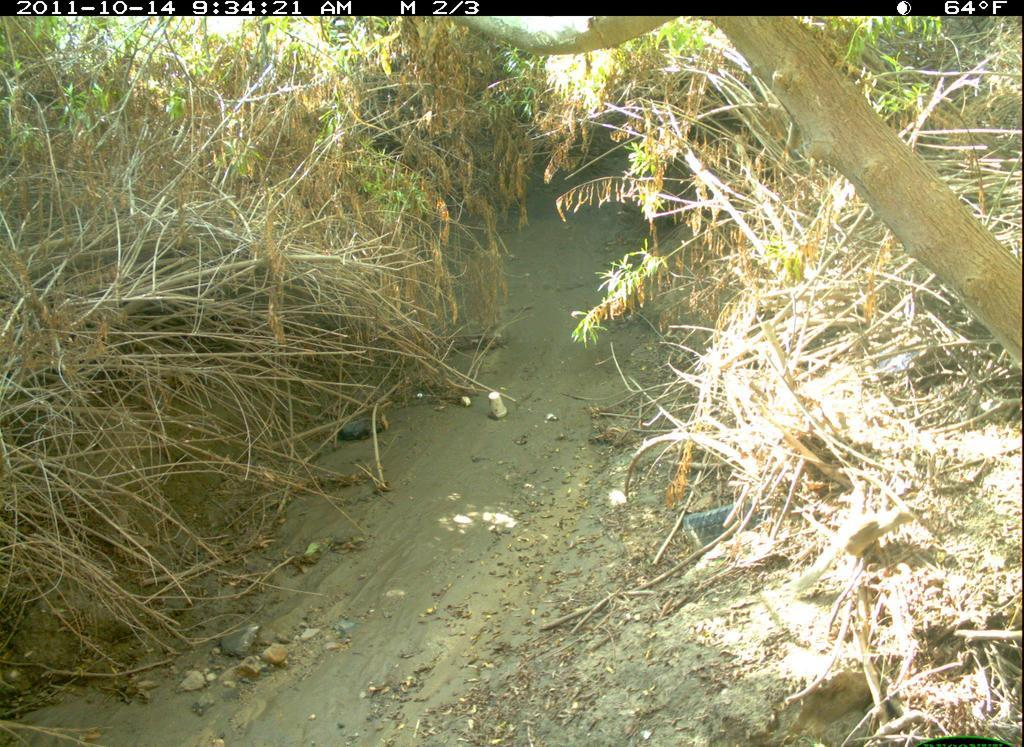squirrel: (787, 501, 922, 596)
